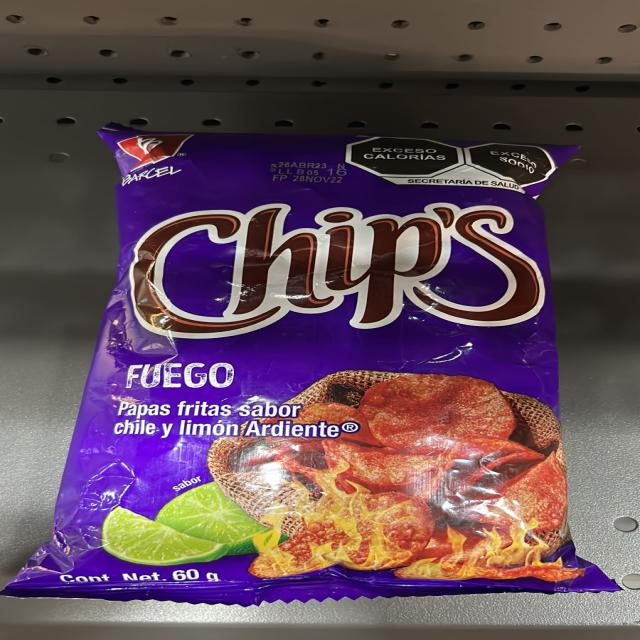chipsFuego: (130, 129, 550, 608)
